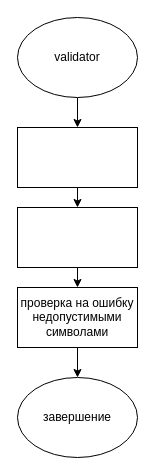
Some shapes in this 155 by 475 pixel diagram are drawn without their labels. Here are the shapes that lost their labels. From the top down, the box of each, then its label:
(16, 126, 138, 188): проверка на ошибку пустым текстом
(16, 206, 138, 268): проверка на ошибку слишком большим текстом
